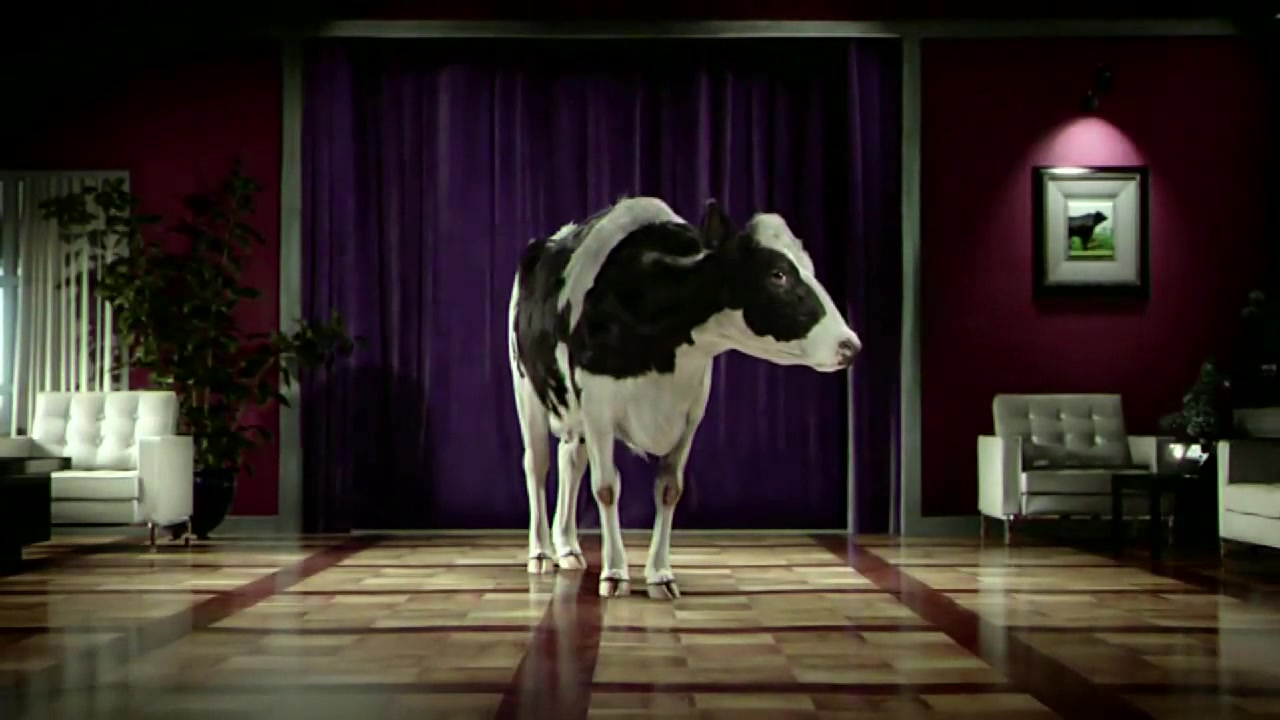cow: (502, 192, 864, 608)
